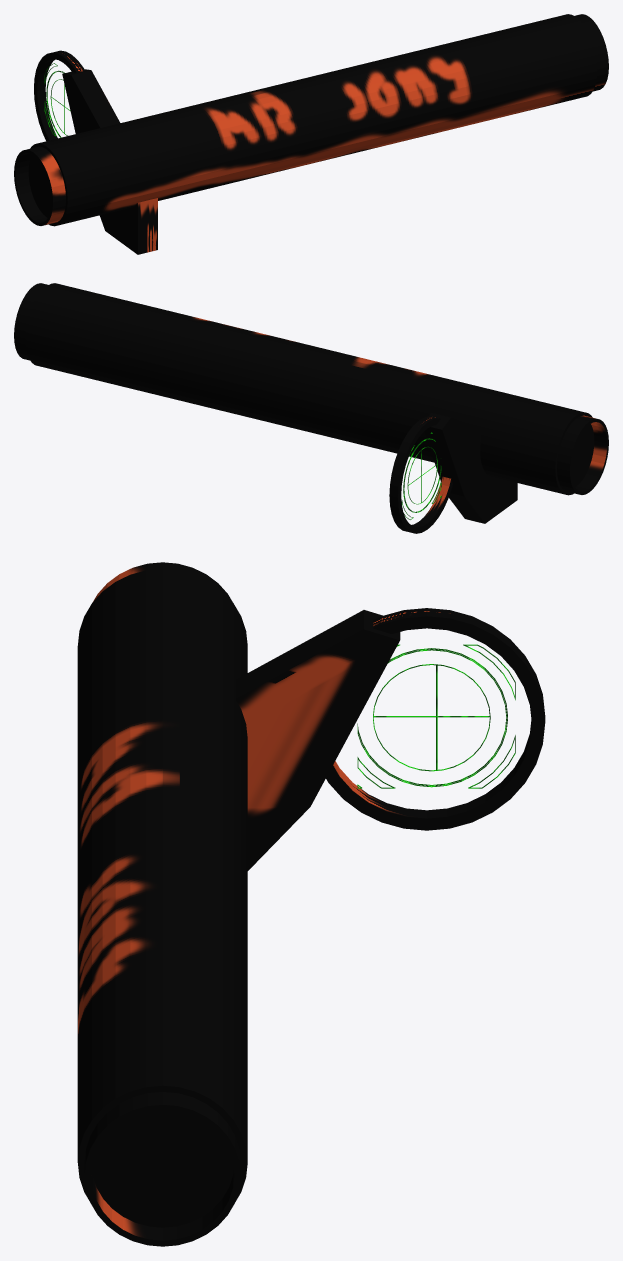
Rendered from Raketnica.fbx.
3 renders of one model, top to bottom at view 1: azimuth 30°, elevation 25°; view 2: azimuth 150°, elevation 25°; view 3: azimuth 270°, elevation 25°, orthographic. The views are drawn at different scales.
Parts seen in each view (by area): view 1: Wpn, Scope; view 2: Wpn, Scope; view 3: Wpn, Scope.
Boxes of the visible parts, x1,y1,x2,y2 form: Wpn: (14,14,608,254); Scope: (44,63,70,137); Wpn: (14,283,608,533); Scope: (401,432,441,519); Wpn: (77,562,545,1246); Scope: (357,644,515,788).
Size of the model in its own units: 679 by 159 by 247.
